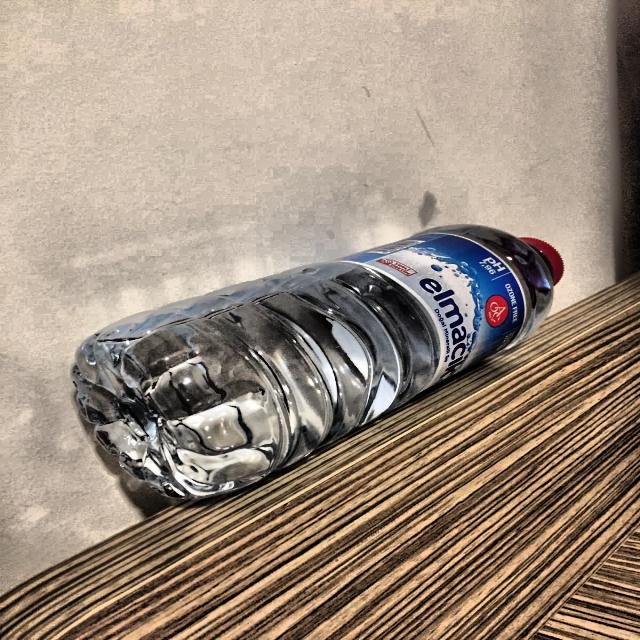plastic bottle: (71, 225, 561, 499)
